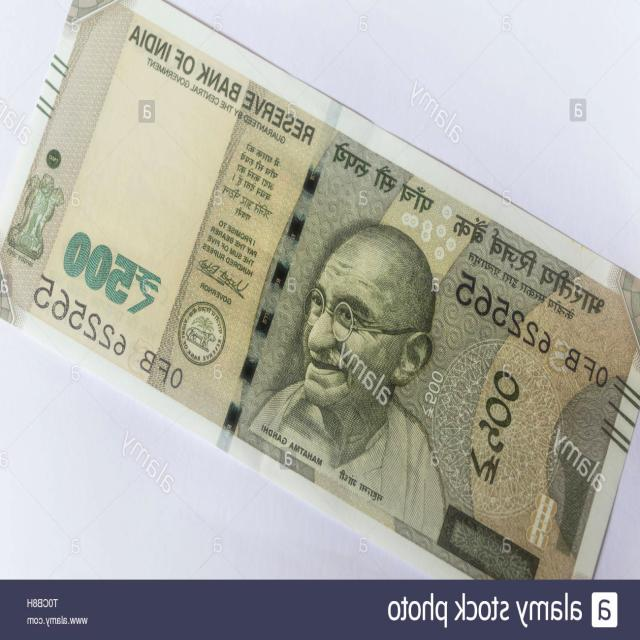500rs: (46, 124, 600, 529)
